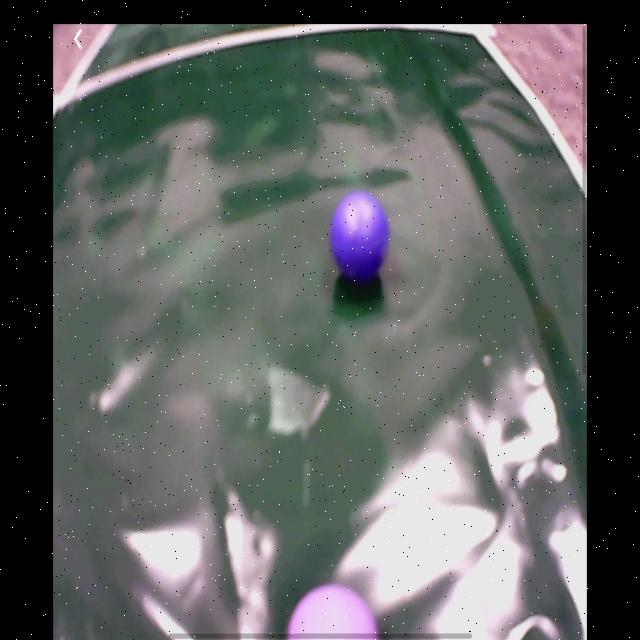ball: (330, 188, 391, 285), (288, 585, 382, 640)
